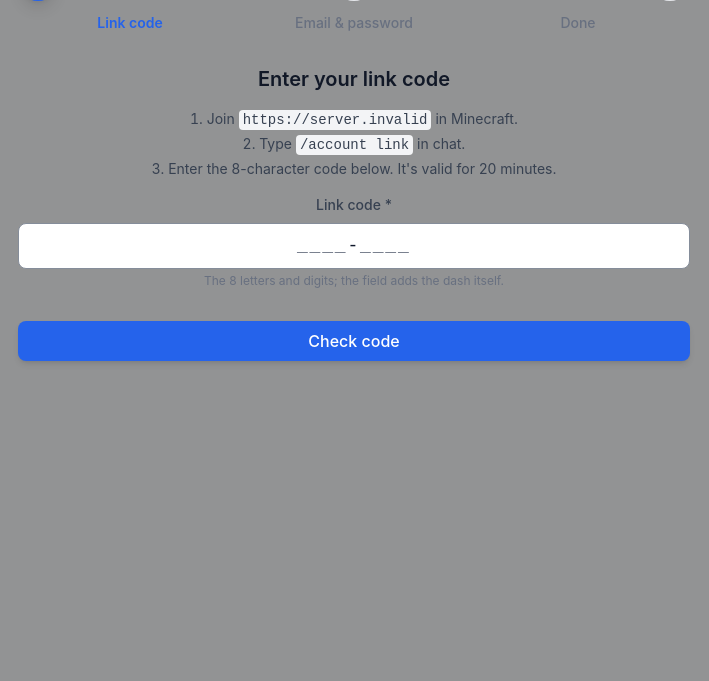
Scenario: RegisterForm › registers with the code, logs the player in and shows the done step (happy path)
Type "abcd1234" into the field with test id "link-code". click: x=354, y=246
box: [18,223,690,269]
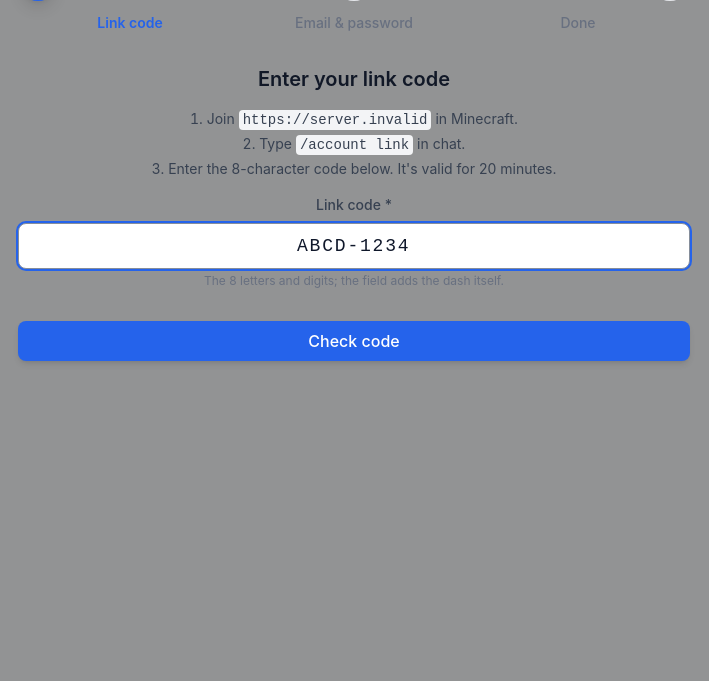
Click the button "Check code". click: x=354, y=341
box: [18,321,690,361]
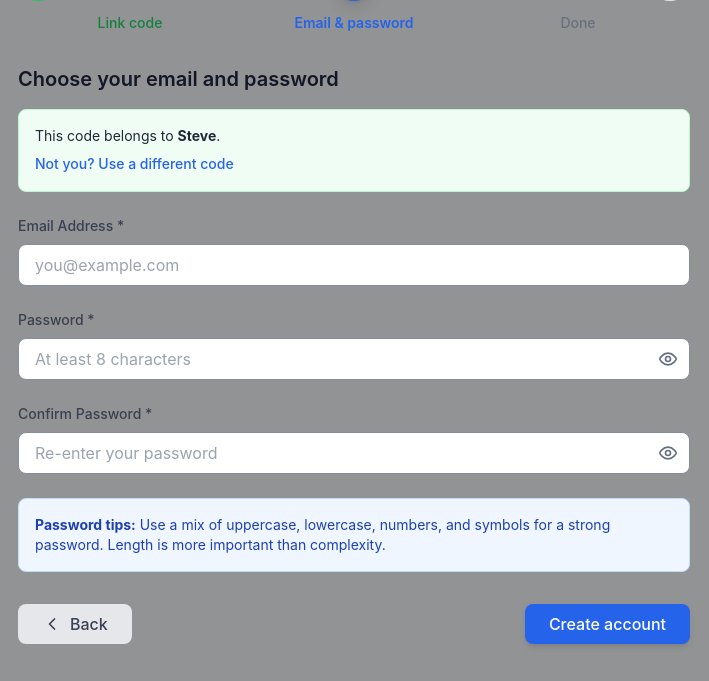
Now the element with test id "link-code-owner" reads "This code belongs to Steve.", box [35,127,220,144]
Type "steve@example.com" into the field labelled "Email Address *". click: x=354, y=265
box: [18,244,690,286]
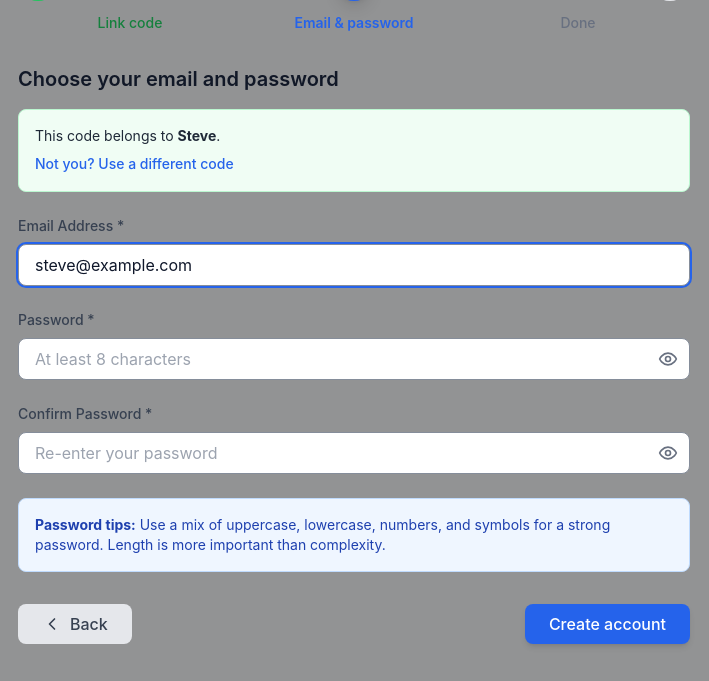
Type "Kn1ghts&Kings!" into the password field with test id "password". click: x=354, y=359
box: [18,338,690,380]
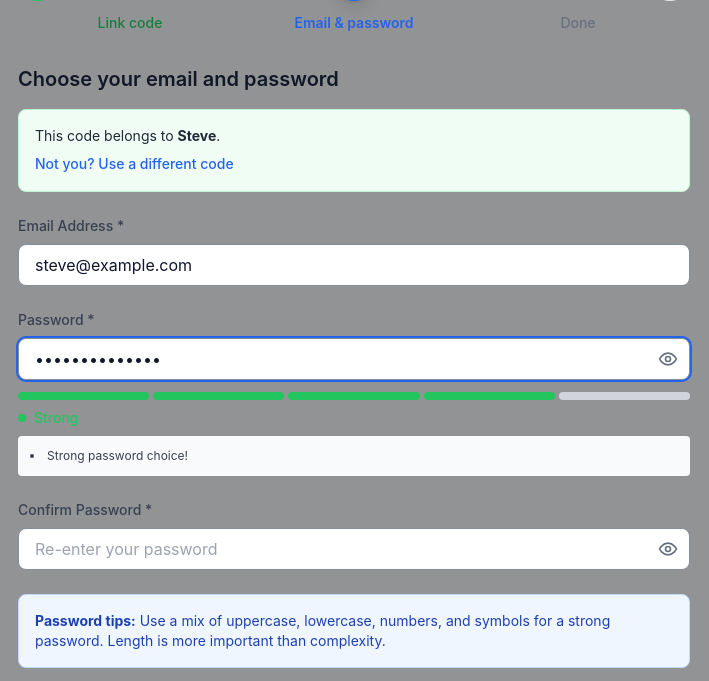
Type "Kn1ghts&Kings!" into the password field with test id "confirm-password". click: x=354, y=549
box: [18,528,690,570]
(page scrolled)
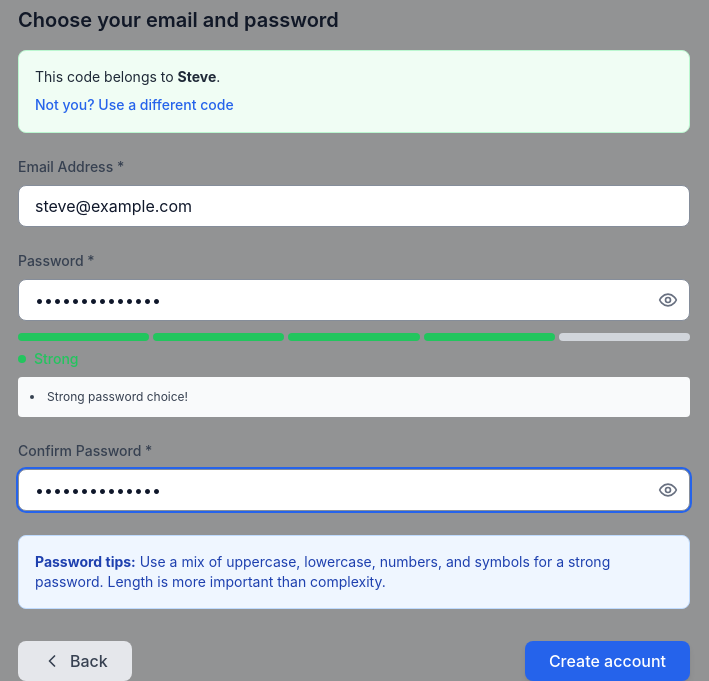
Click the button "Create account". click: x=607, y=661
box: [525,641,690,680]
(page scrolled)
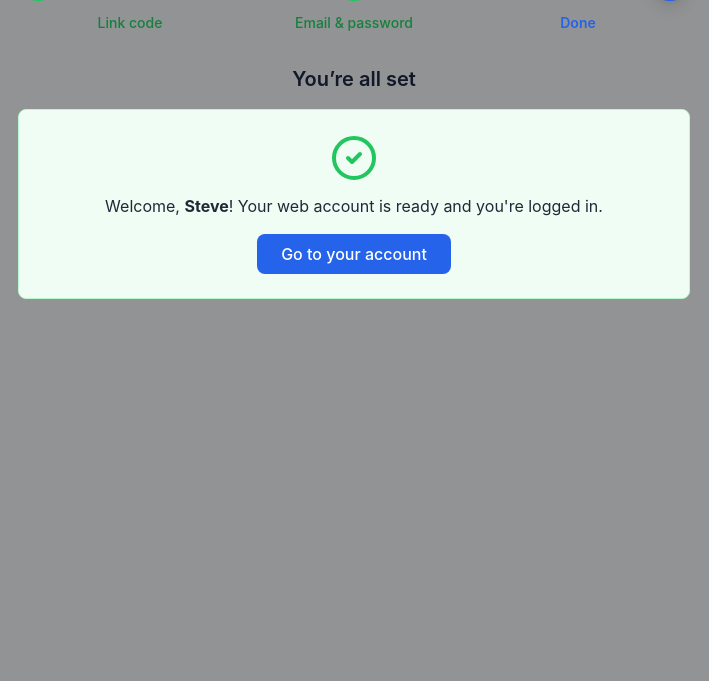
Now the text "Your web account is ready" is shown, box [229,196,603,216]
